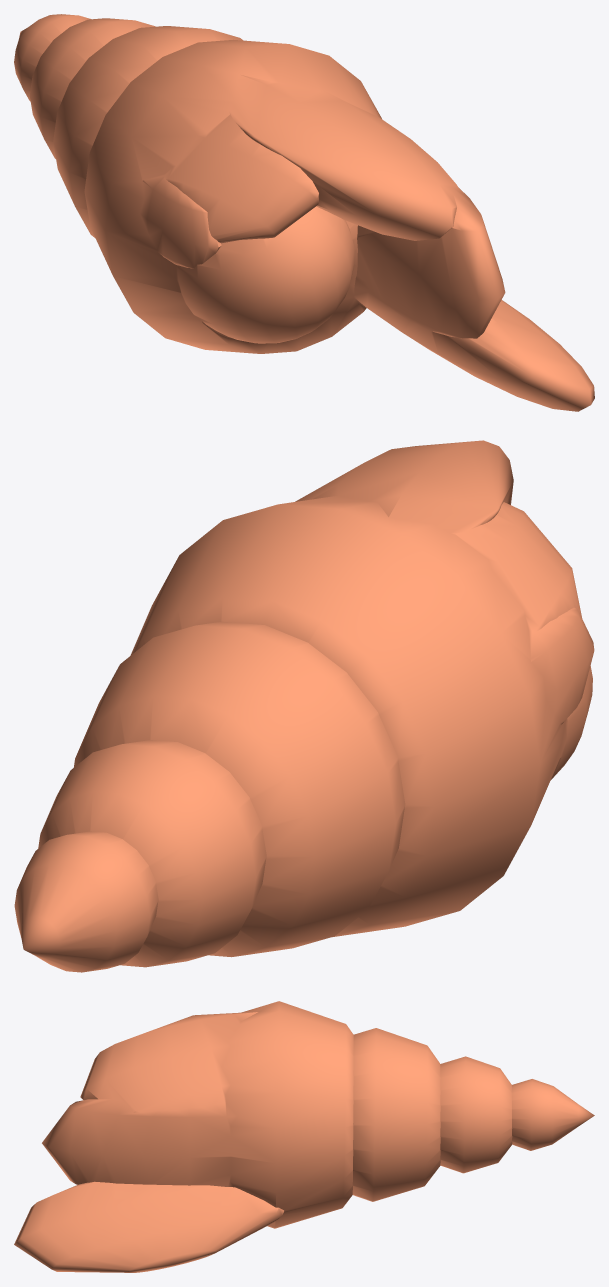
Rendered from conch.gltf.
3 views of the same model, one above another, from view 1: azimuth 30°, elevation 25°; view 2: azimuth 150°, elevation 25°; view 3: azimuth 270°, elevation 25° (orthographic). The views are drawn at different scales.
Size of the model in its own units: 2.35 by 2 by 5.06.
